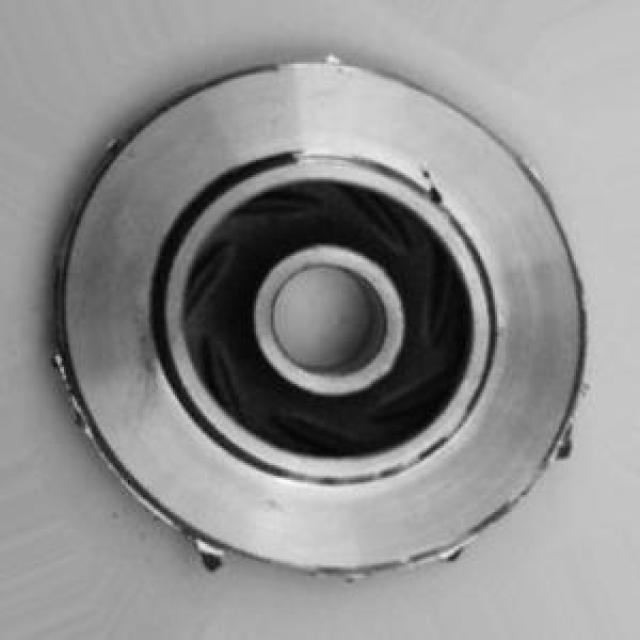Defect: (57, 335, 113, 436), (172, 521, 232, 569), (414, 147, 451, 216), (551, 411, 586, 476)
